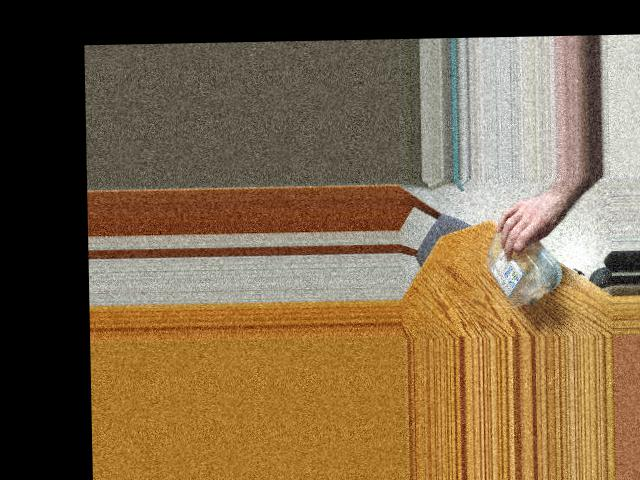cheese: (484, 212, 558, 309)
